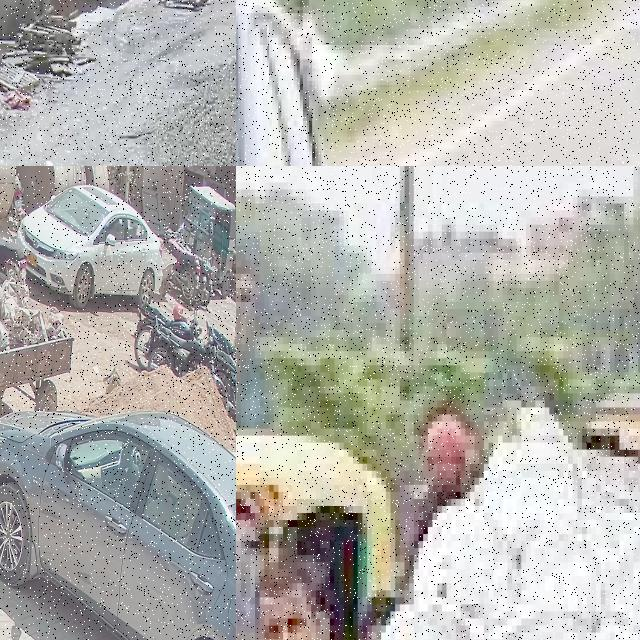bike: (132, 298, 198, 373), (145, 315, 218, 378), (163, 226, 200, 302), (0, 201, 26, 284), (215, 345, 236, 432), (206, 322, 236, 371), (231, 250, 236, 302)
car: (0, 408, 236, 640), (236, 0, 472, 166), (17, 184, 162, 311)
